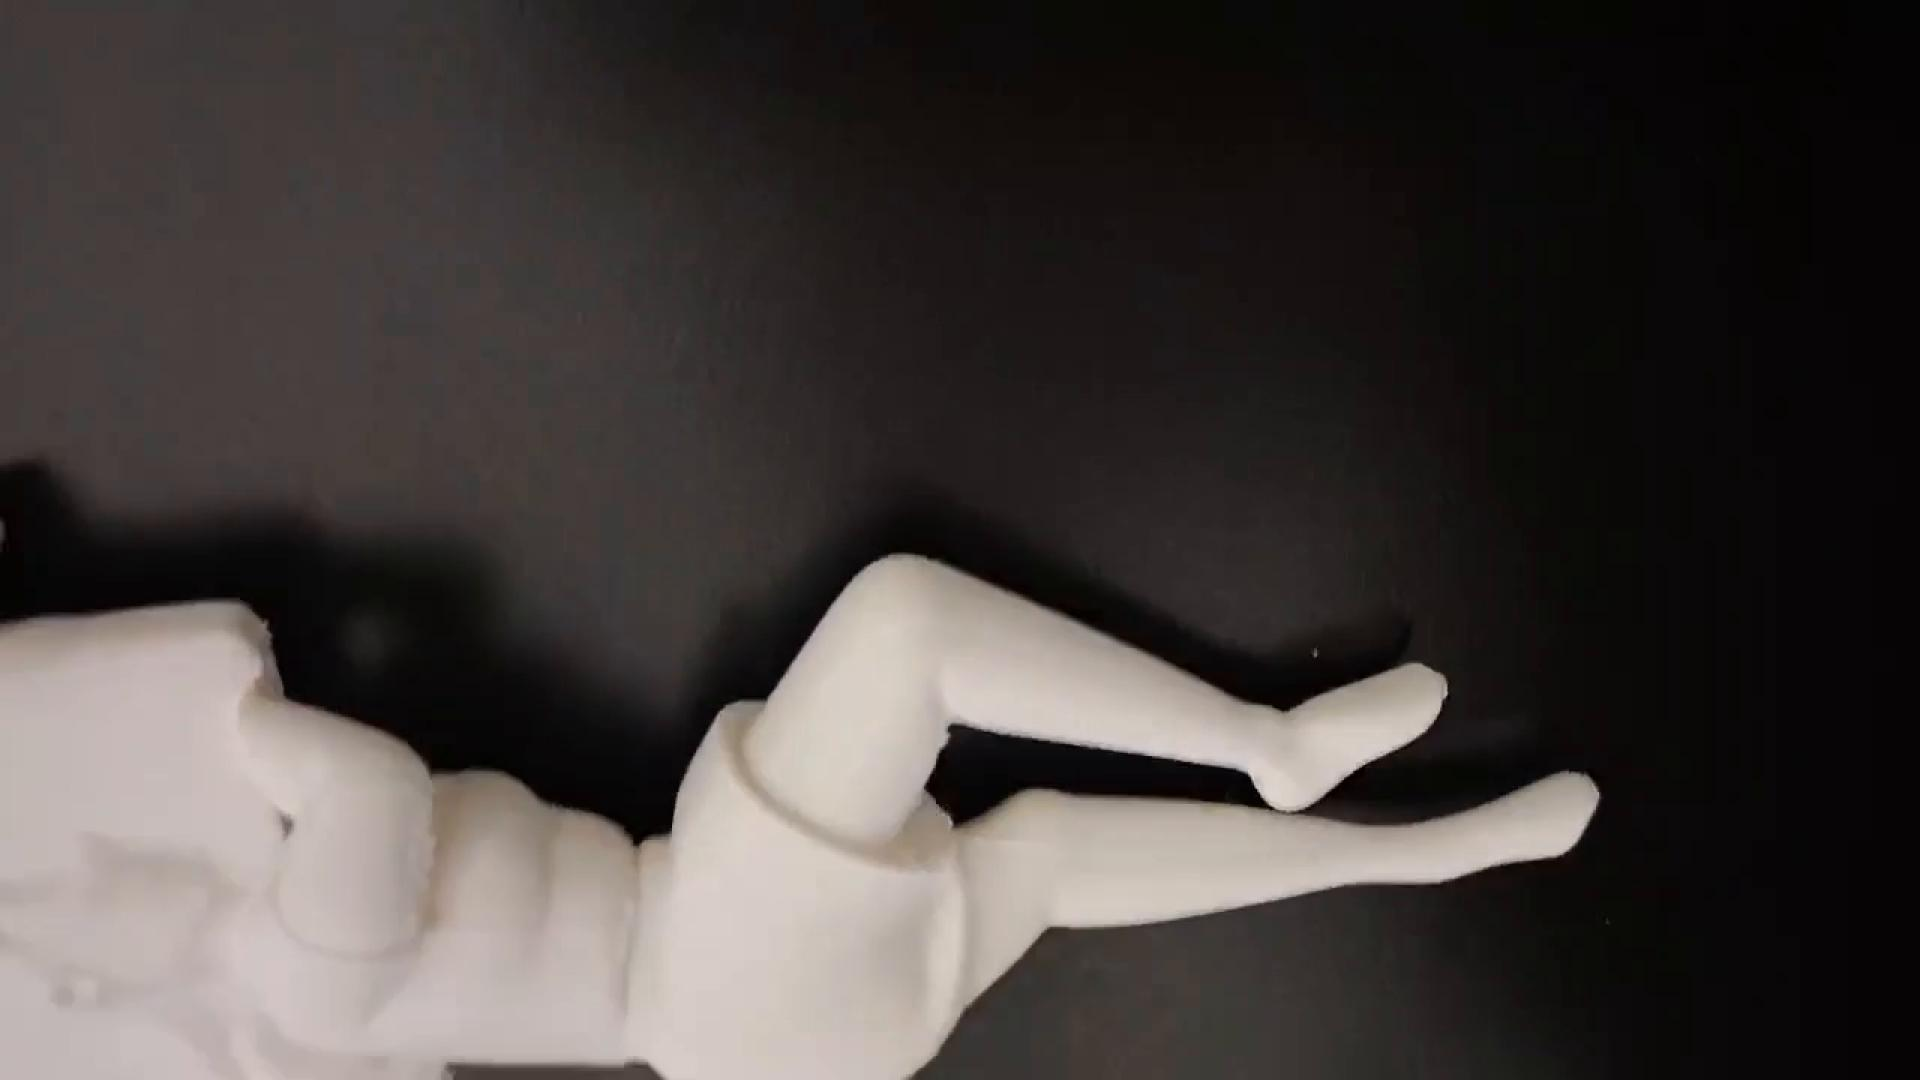Good-style: (0, 381, 1622, 1080)
